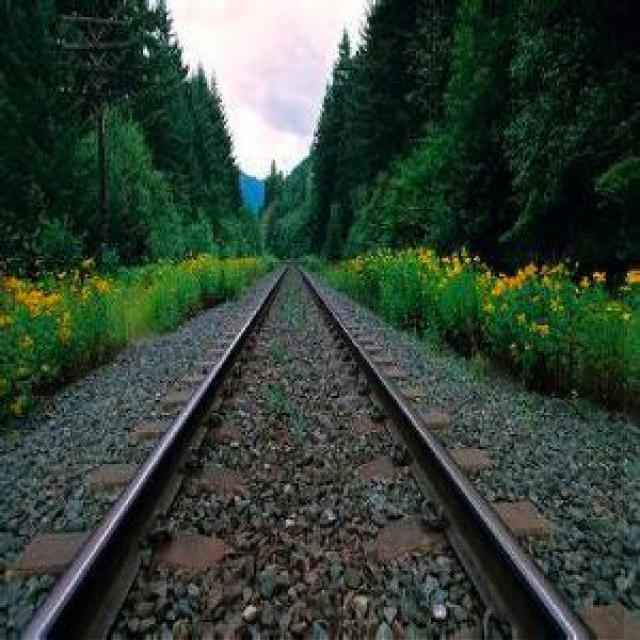rail: (1, 264, 625, 640)
